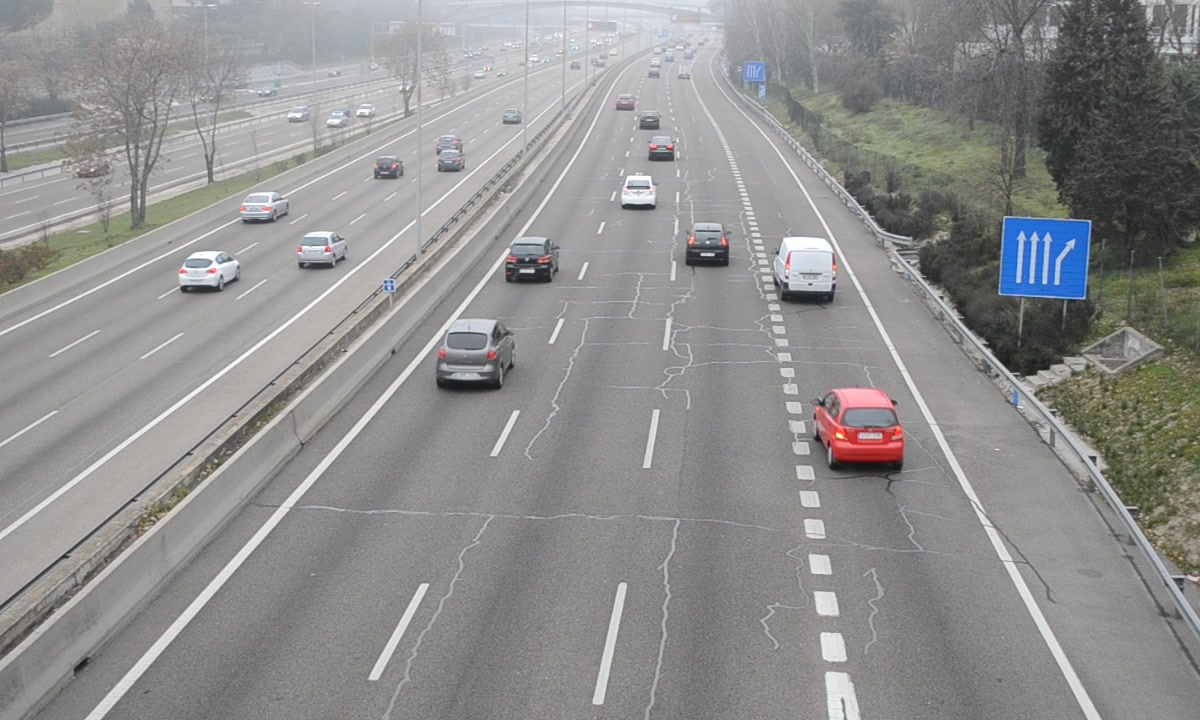car: (815, 388, 906, 465), (440, 321, 515, 383), (504, 238, 556, 283), (685, 222, 729, 265), (621, 172, 655, 209), (647, 136, 677, 159)
van: (775, 236, 837, 298)
